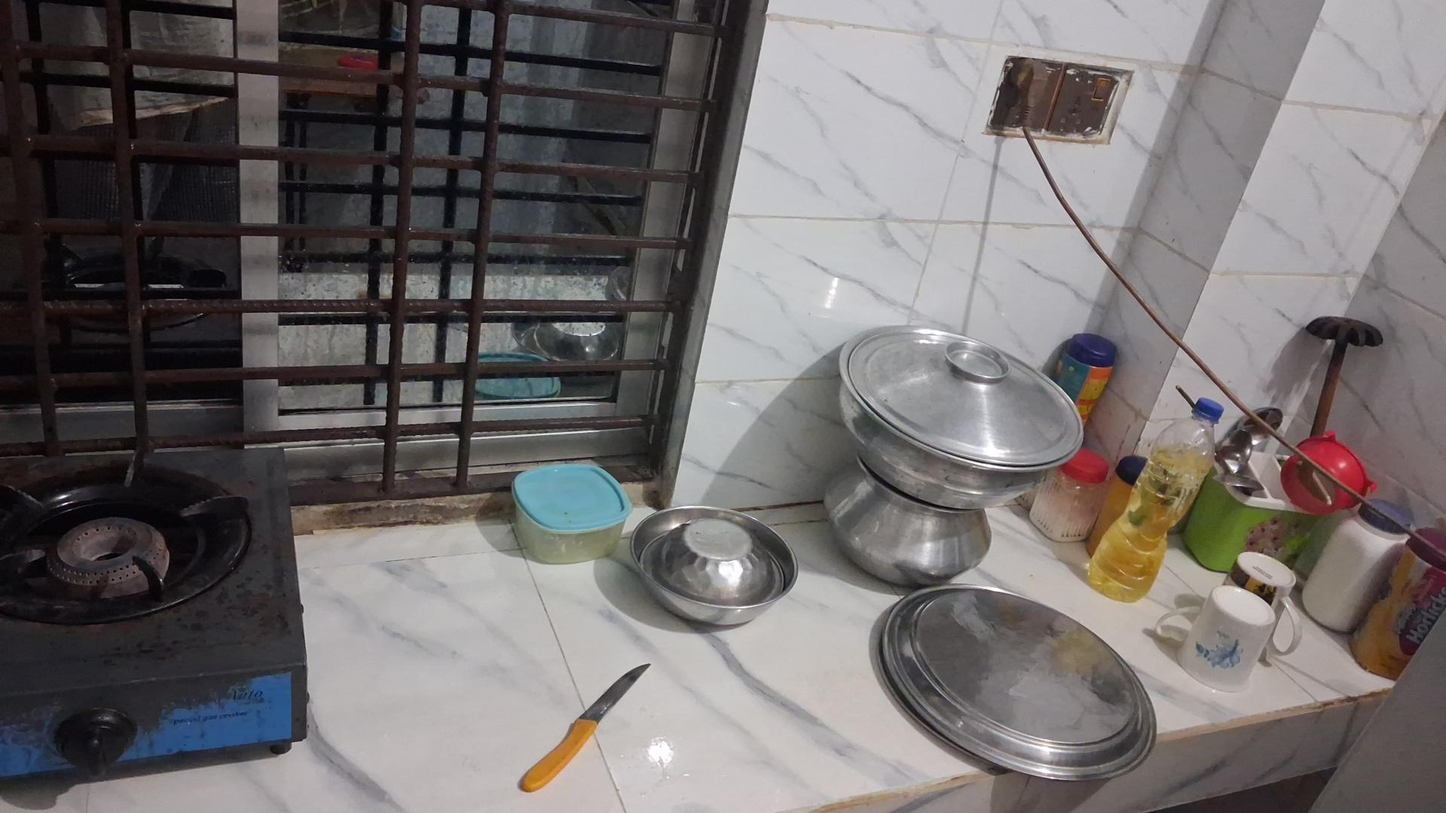Bottle: (1085, 397, 1224, 604)
Bowl: (629, 507, 796, 629)
Cup: (1177, 583, 1300, 693)
Knife: (517, 663, 649, 794)
Plate: (878, 586, 1158, 775), (1353, 522, 1446, 671), (1318, 497, 1407, 642), (510, 462, 633, 565), (1036, 455, 1099, 549)
Pot: (841, 327, 1079, 510), (822, 457, 989, 585)
